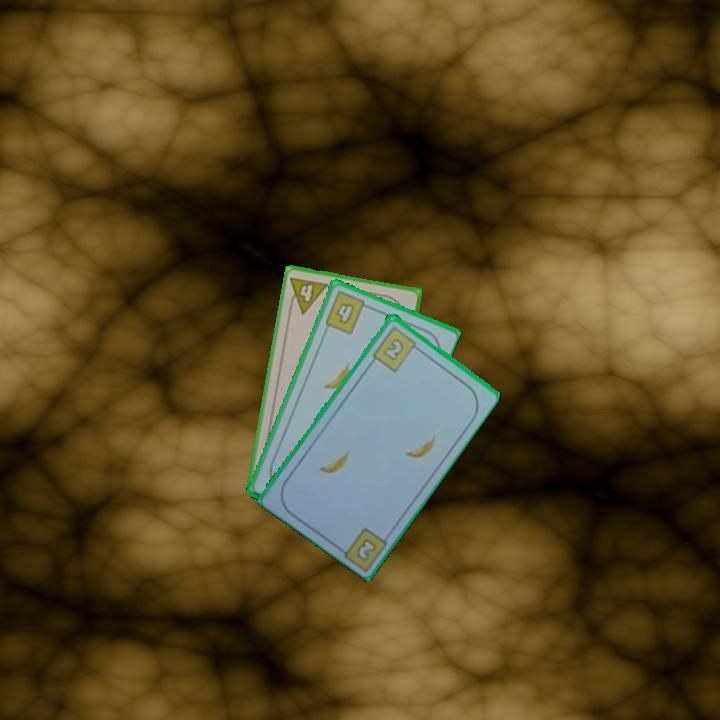2b: (369, 323, 423, 374), (355, 537, 377, 561)
4b: (321, 287, 373, 337)
4p: (285, 273, 331, 317)
